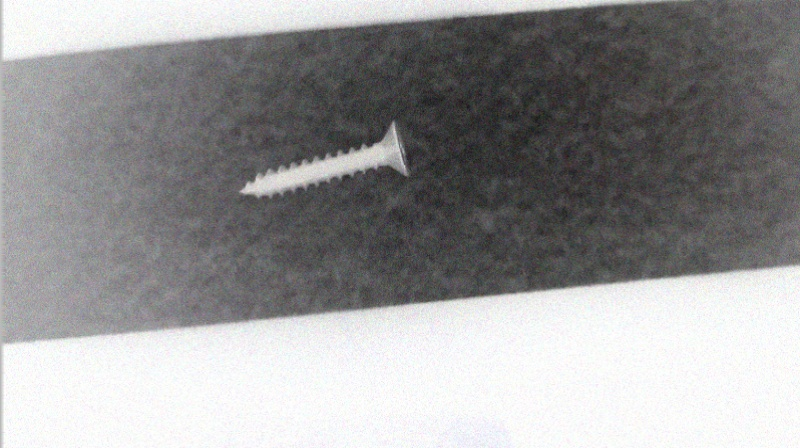S001: (233, 117, 411, 207)
